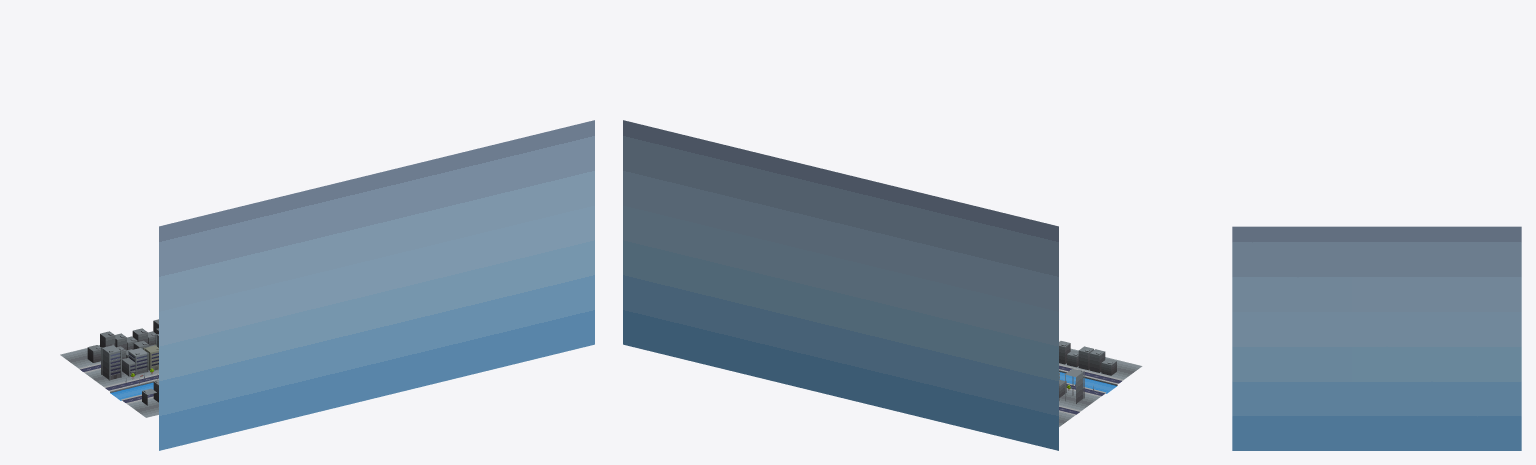
The model's file is CITY.glb.
3 renders of one model, left to right at view 1: azimuth 30°, elevation 25°; view 2: azimuth 150°, elevation 25°; view 3: azimuth 270°, elevation 25°, orthographic.
Visible parts, largest first — view 1: Cube, Cube.051, office_large_mesh.001, office_stepped_mesh.001; view 2: Cube, Cube.061; view 3: Cube.
Part boxes in pixels (x1=…): Cube: x1=159, y1=120, x2=594, y2=450; Cube.051: x1=87, y1=319, x2=158, y2=362; office_large_mesh.001: x1=101, y1=344, x2=121, y2=380; office_stepped_mesh.001: x1=122, y1=348, x2=148, y2=376; Cube: x1=623, y1=120, x2=1058, y2=450; Cube.061: x1=1059, y1=341, x2=1116, y2=375; Cube: x1=1232, y1=226, x2=1521, y2=450.
Bounding box in the file's own units: 708 × 351 × 408.
Materials: 1 (1 with a texture image).
